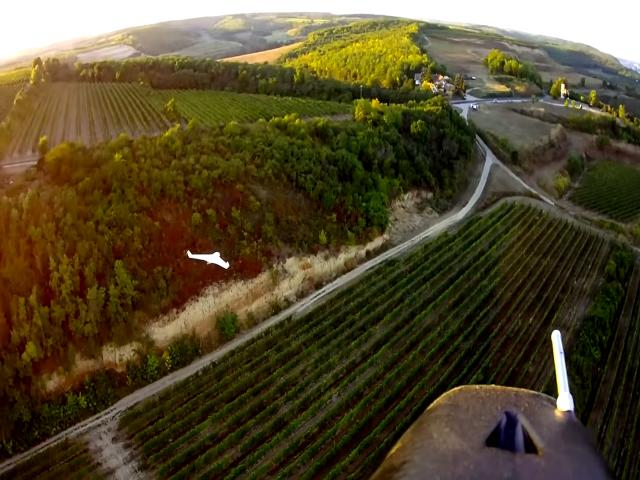plane: (186, 249, 230, 271)
